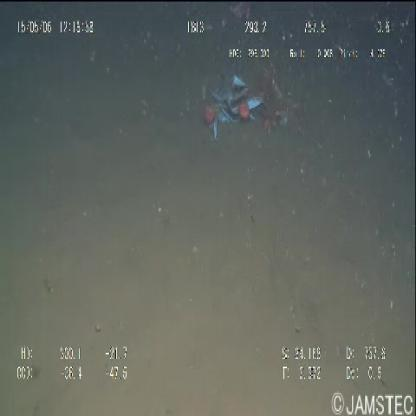Rác: (210, 74, 268, 140)
